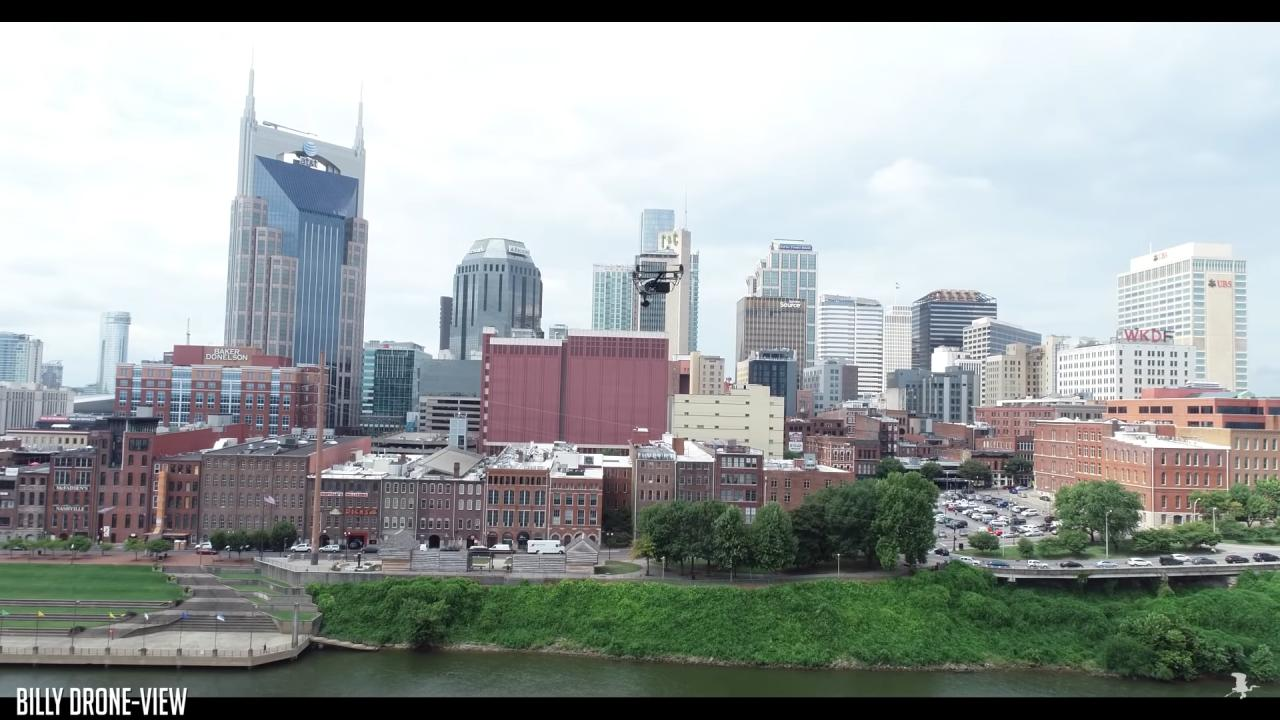Drone: (619, 260, 694, 312)
